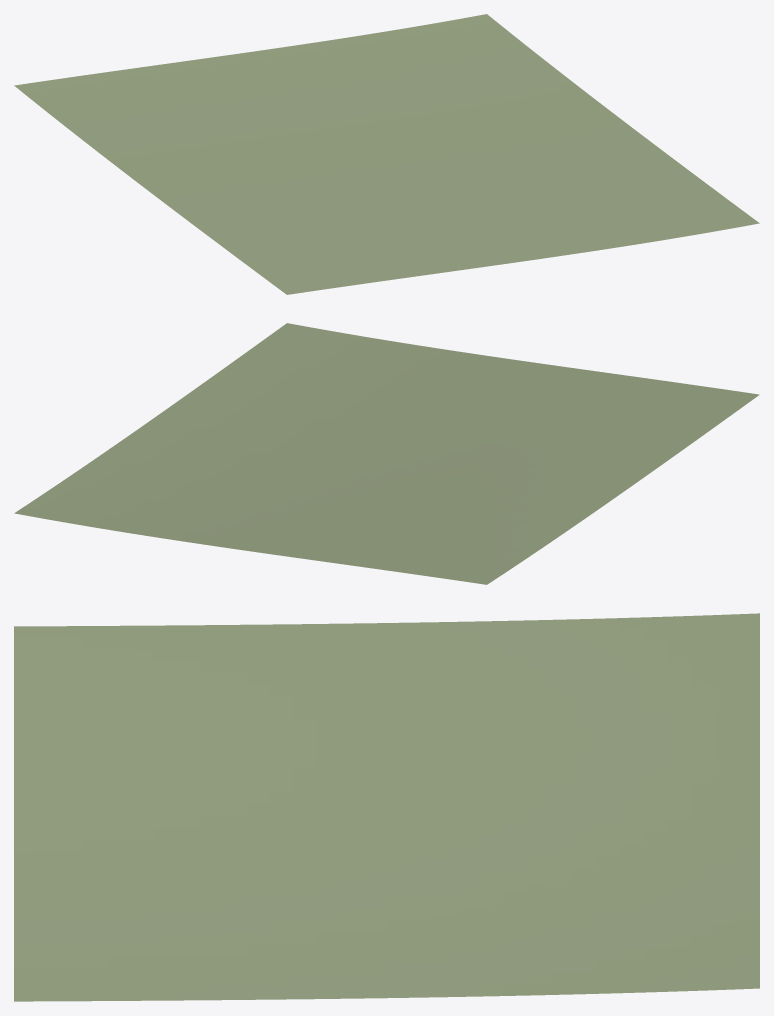
The model's file is valley-3-4.glb.
3 views of the same model, one above another, from view 1: azimuth 30°, elevation 25°; view 2: azimuth 150°, elevation 25°; view 3: azimuth 270°, elevation 25° (orthographic). The views are drawn at different scales.
Parts seen in each view (by area): view 1: valley-3-4; view 2: valley-3-4; view 3: valley-3-4.
Part boxes in pixels (x1,y1,x2,y2): valley-3-4: (14, 14, 759, 294); valley-3-4: (14, 323, 759, 584); valley-3-4: (14, 613, 759, 1001).
Size of the model in its own units: 256 by 27.61 by 256.
